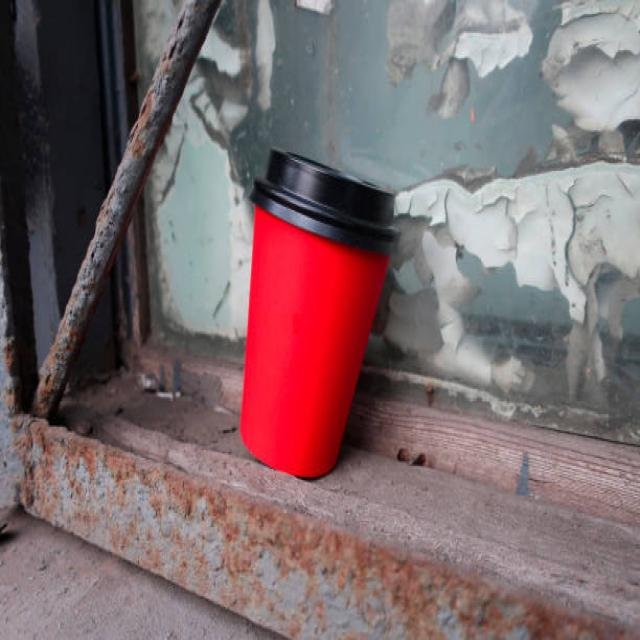Red_cup: (241, 151, 397, 476)
